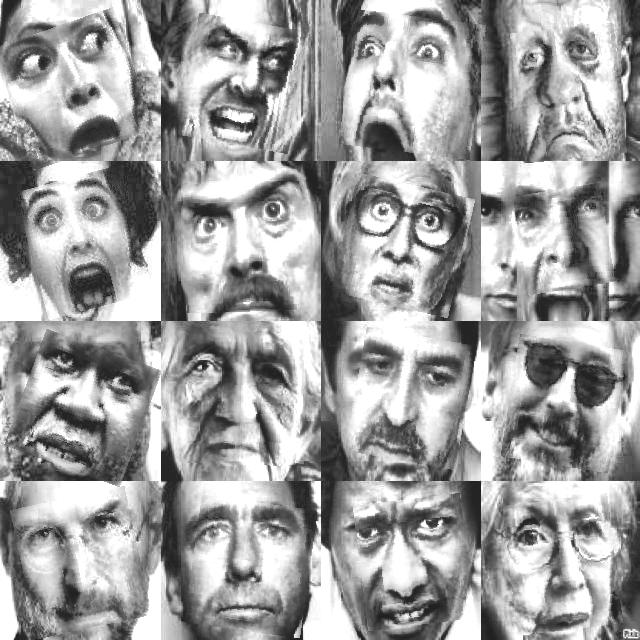angry: (183, 181, 314, 312), (183, 18, 305, 150), (517, 186, 611, 292)
fear: (0, 15, 145, 161), (343, 13, 483, 157), (337, 179, 469, 313), (23, 171, 145, 315)
happy: (16, 492, 145, 634), (504, 338, 622, 470)
neutral: (506, 496, 620, 633)
sad: (12, 337, 152, 479), (177, 332, 307, 465), (188, 498, 313, 635), (350, 332, 472, 466), (357, 496, 471, 628), (514, 24, 624, 160)
